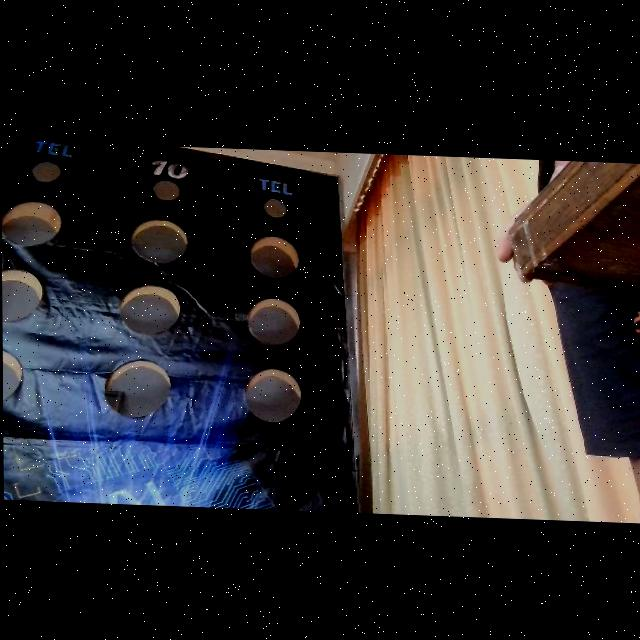hole: (104, 356, 172, 422), (244, 367, 303, 425), (120, 284, 182, 336), (3, 199, 64, 248), (130, 218, 190, 267), (247, 297, 301, 348), (2, 265, 46, 326), (250, 233, 301, 280), (3, 348, 24, 401), (31, 159, 62, 184), (152, 179, 181, 202), (264, 198, 287, 219)
